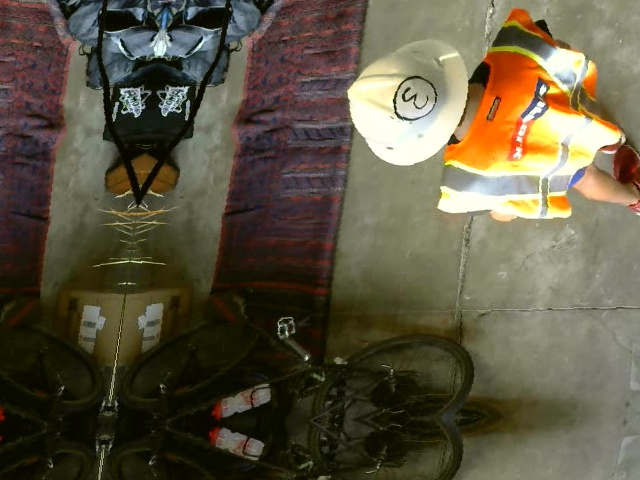three: (389, 74, 439, 120)
